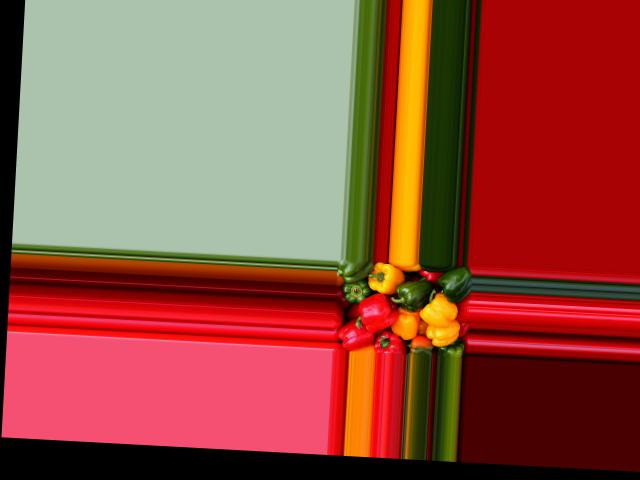bell_pepper: (433, 340, 463, 357)
